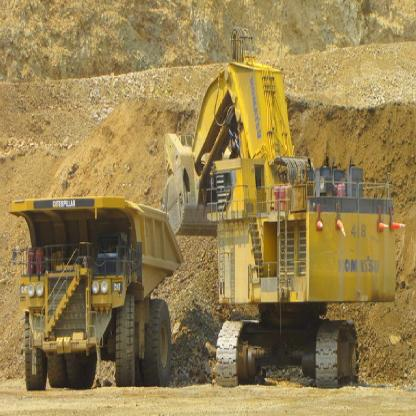dump_truck: (6, 186, 186, 395)
excavator: (157, 24, 404, 390)
